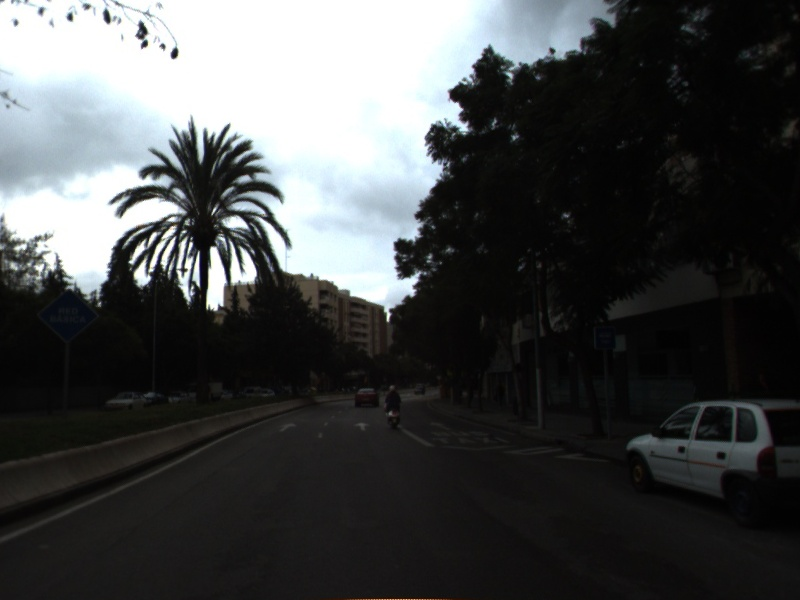STRAIGHT: (428, 420, 453, 433), (276, 421, 299, 434), (351, 420, 372, 433)
